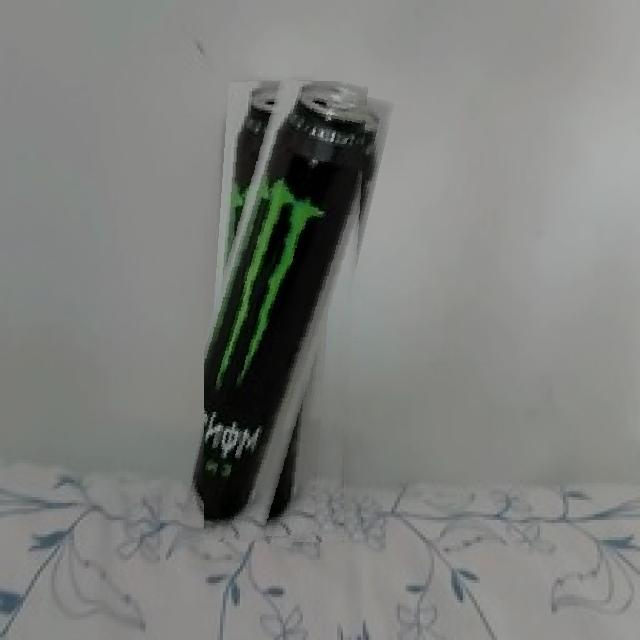recyclable: (204, 81, 369, 545)
